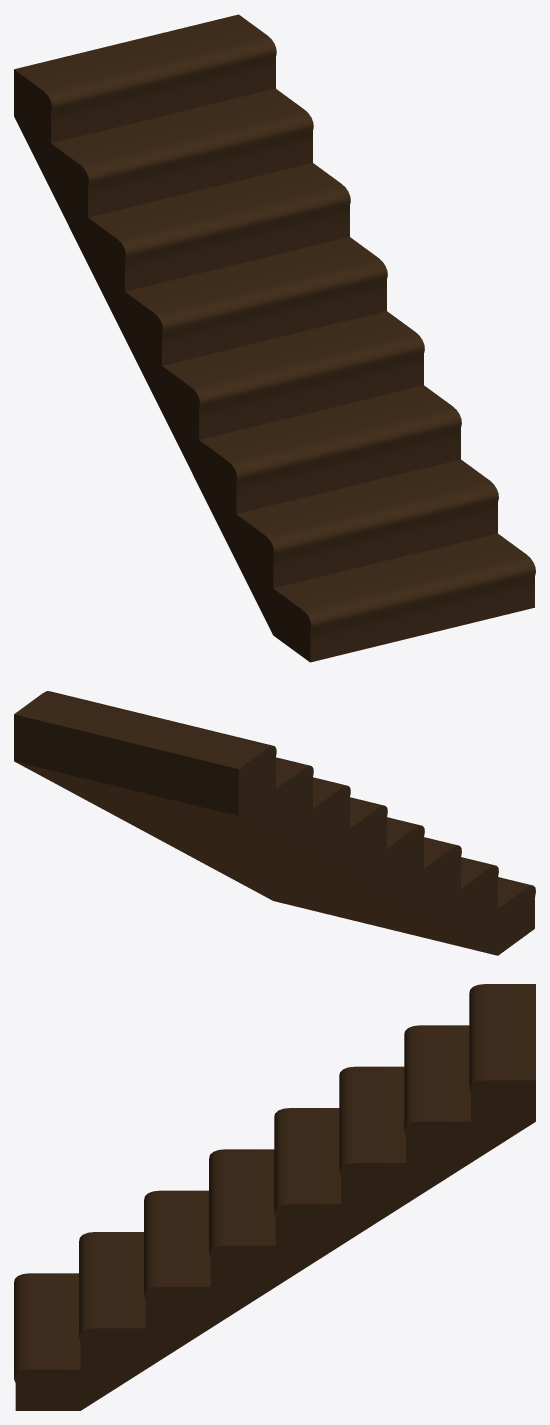
File: Stairs.glb
The picture shows the model from 3 angles, top to bottom: view 1: azimuth 30°, elevation 25°; view 2: azimuth 150°, elevation 25°; view 3: azimuth 270°, elevation 25°; orthographic projection. The views are drawn at different scales.
Parts seen in each view (by area): view 1: stairs; view 2: stairs; view 3: stairs.
Boxes of the visible parts, x1=… form: stairs: x1=14, y1=14, x2=535, y2=662; stairs: x1=14, y1=691, x2=535, y2=955; stairs: x1=14, y1=984, x2=535, y2=1410.
Bounding box in the file's own units: 9.74 × 15.58 × 22.29.
